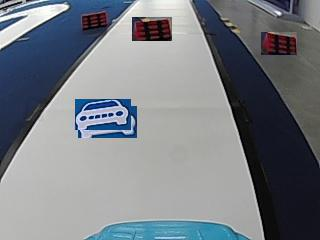bomb: (81, 10, 107, 28)
